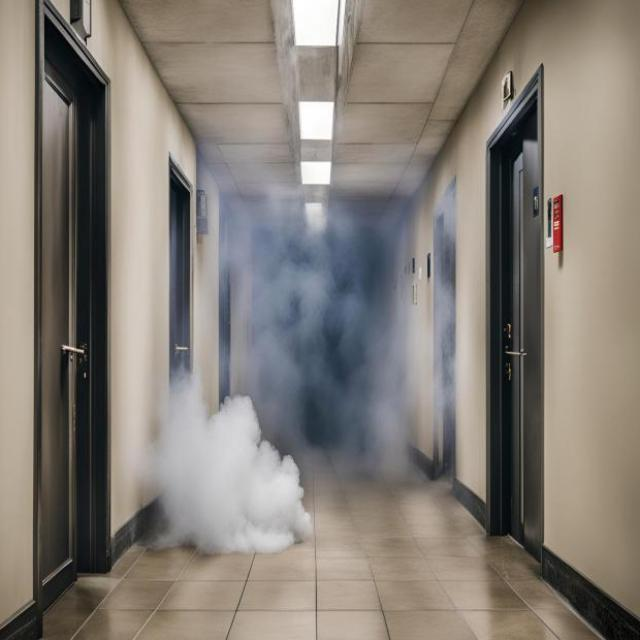fire: (216, 151, 458, 482), (136, 371, 312, 558)
